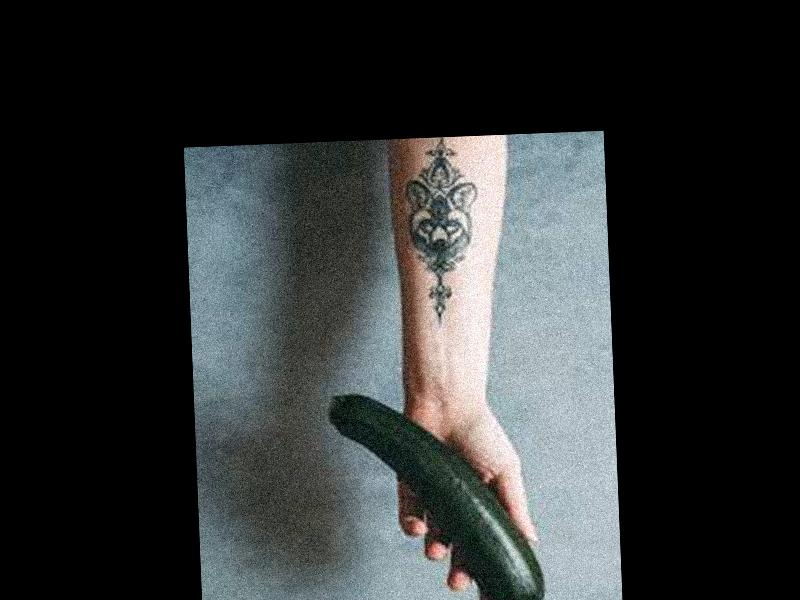Cucumber: (329, 388, 544, 600)
